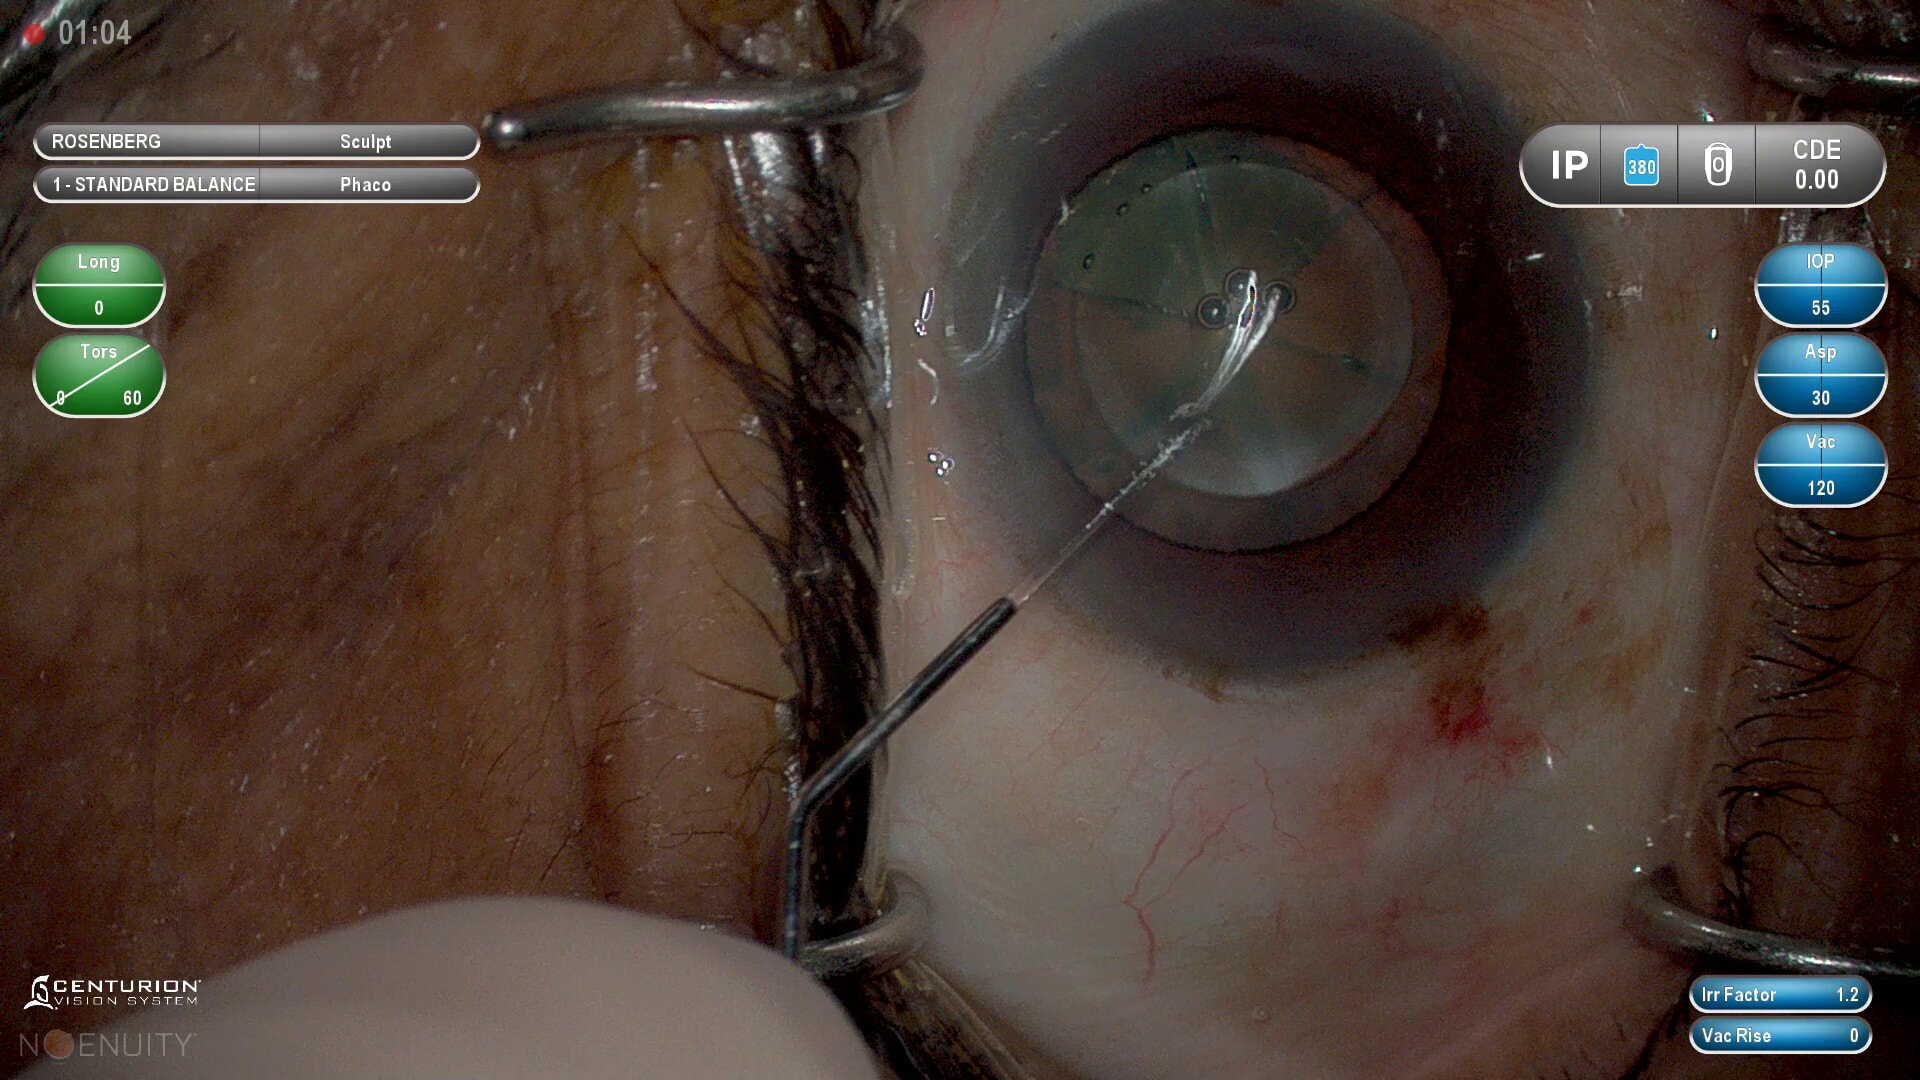iris: (981, 48, 1532, 590)
pupil: (1020, 131, 1462, 551)
